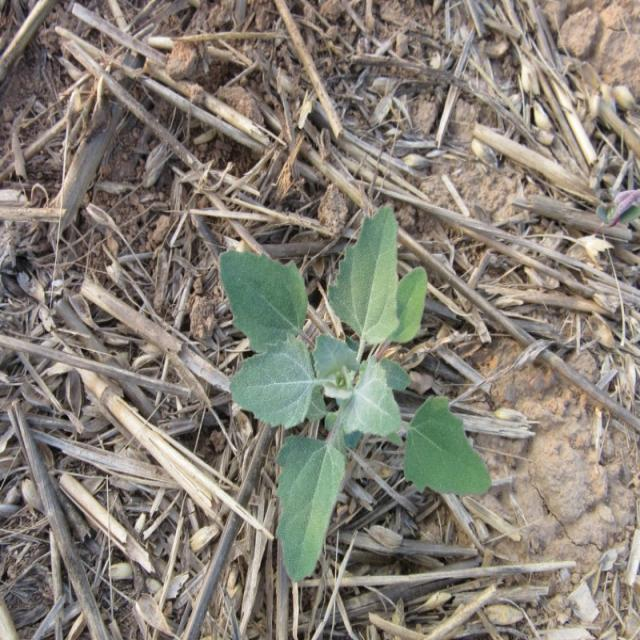ca: (216, 205, 490, 580)
